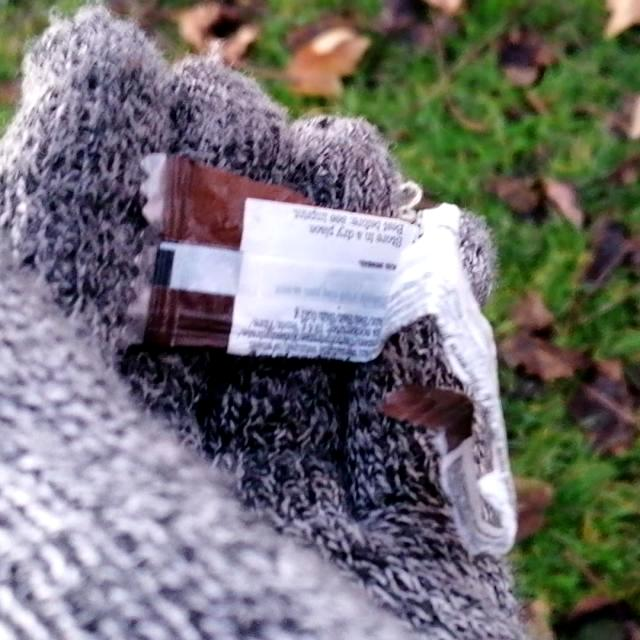Plastic: (114, 128, 520, 558)
